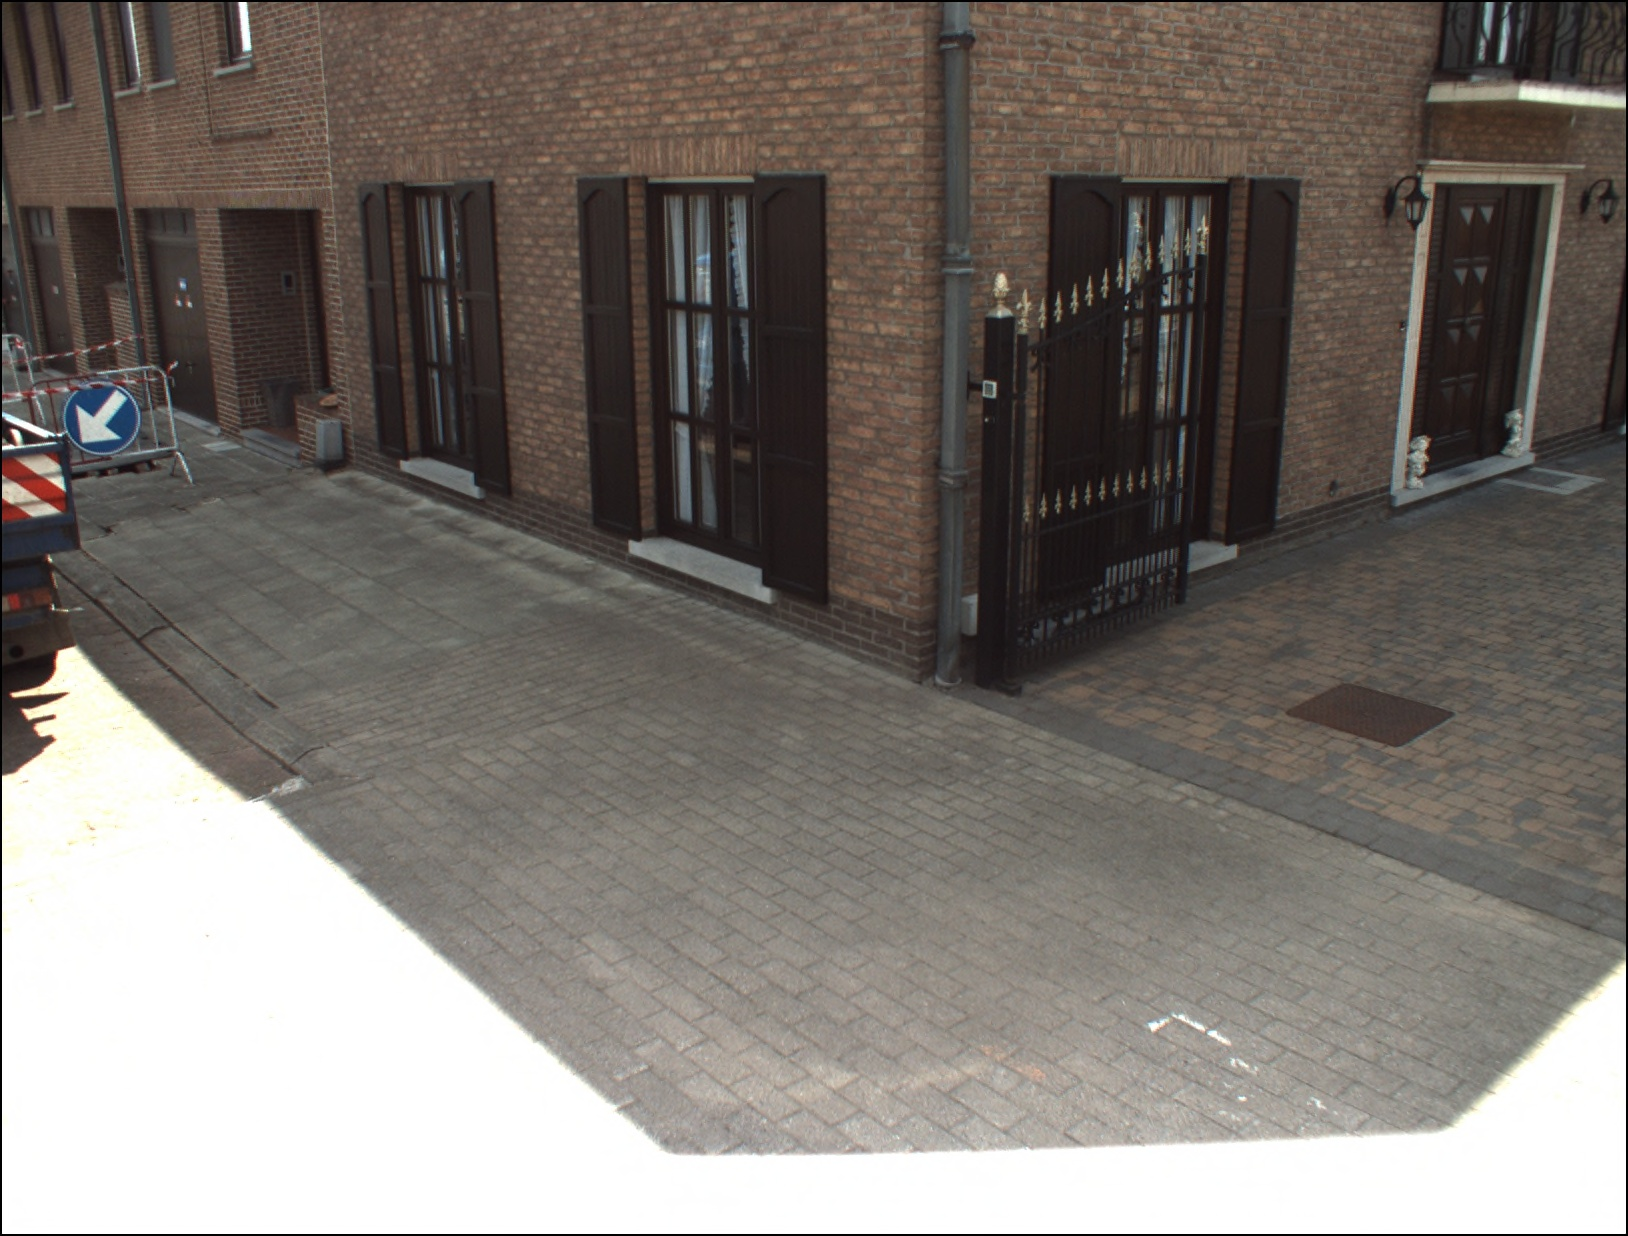passleft: (64, 383, 140, 454)
